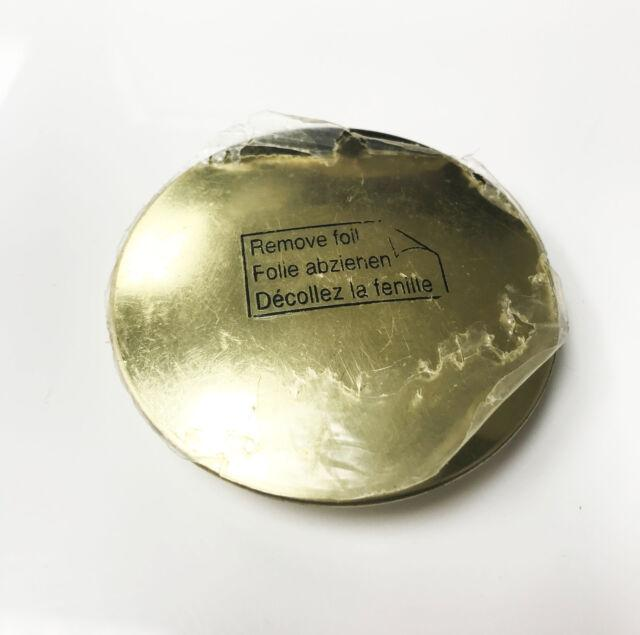metal: (109, 113, 569, 506)
